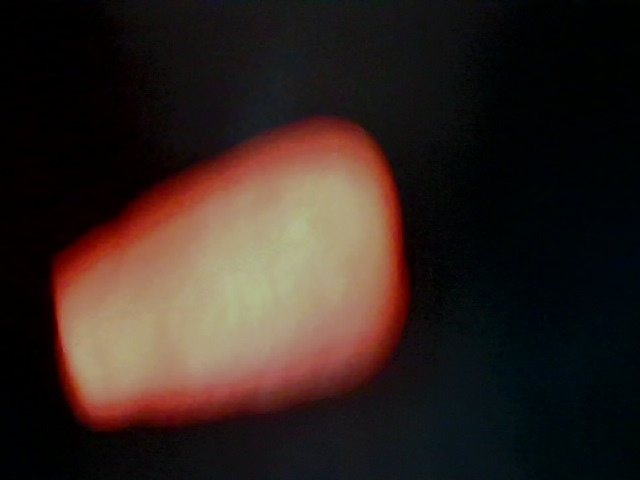KHSLJ: (266, 139, 628, 473)
